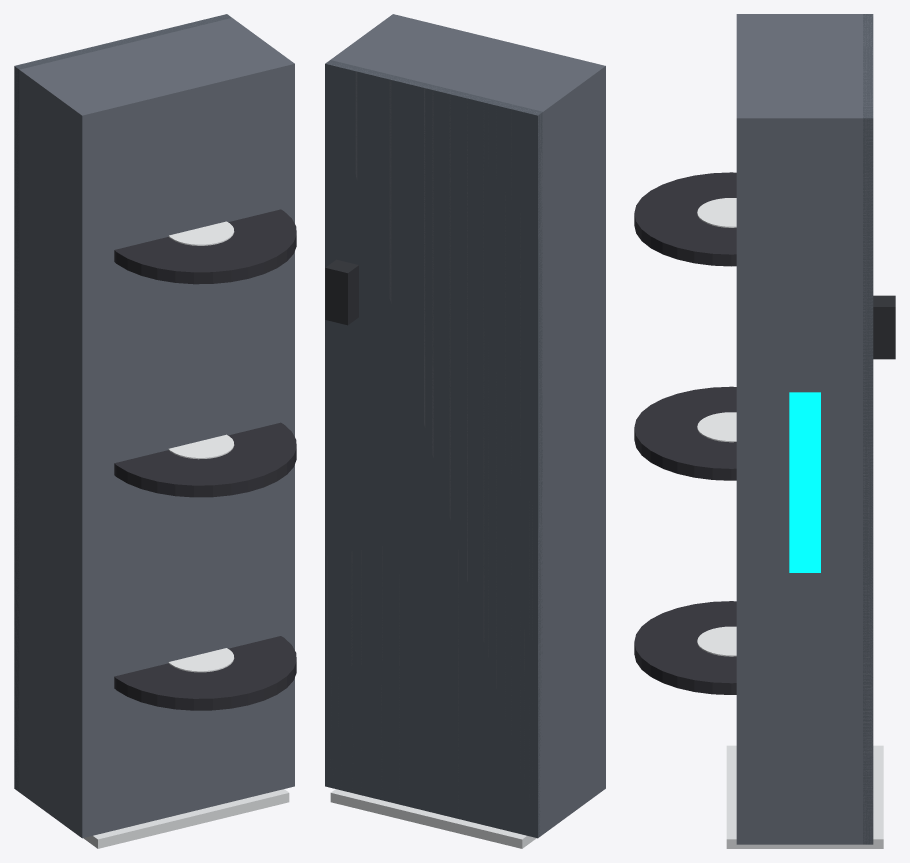
File: gpu_rtx4070ti.glb
The picture shows the model from 3 angles, left to right: view 1: azimuth 30°, elevation 25°; view 2: azimuth 150°, elevation 25°; view 3: azimuth 270°, elevation 25°; orthographic projection.
Visible parts, largest first — view 1: GPU4070Ti_Shroud, GPU4070Ti_Fan_1, GPU4070Ti_Fan_0, GPU4070Ti_Fan_2, GPU4070Ti_Backplate, GPU4070Ti_Bracket, GPU4070Ti_Hub_0, GPU4070Ti_Hub_1, GPU4070Ti_Hub_2; view 2: GPU4070Ti_Backplate, GPU4070Ti_Shroud, GPU4070Ti_Bracket, GPU4070Ti_12VHPWR; view 3: GPU4070Ti_Shroud, GPU4070Ti_Backplate, GPU4070Ti_Fan_0, GPU4070Ti_Fan_2, GPU4070Ti_Fan_1, GPU4070Ti_LogoPlate, GPU4070Ti_Bracket, GPU4070Ti_12VHPWR, GPU4070Ti_Hub_0, GPU4070Ti_Hub_1, GPU4070Ti_Hub_2.
Boxes of the visible parts, x1=… form: GPU4070Ti_Shroud: x1=14, y1=16, x2=294, y2=838; GPU4070Ti_Fan_1: x1=114, y1=422, x2=296, y2=497; GPU4070Ti_Fan_0: x1=114, y1=636, x2=296, y2=710; GPU4070Ti_Fan_2: x1=114, y1=209, x2=296, y2=284; GPU4070Ti_Backplate: x1=14, y1=14, x2=231, y2=791; GPU4070Ti_Bracket: x1=83, y1=789, x2=289, y2=848; GPU4070Ti_Hub_0: x1=168, y1=648, x2=234, y2=672; GPU4070Ti_Hub_1: x1=168, y1=434, x2=234, y2=459; GPU4070Ti_Hub_2: x1=168, y1=221, x2=234, y2=245; GPU4070Ti_Backplate: x1=325, y1=60, x2=542, y2=838; GPU4070Ti_Shroud: x1=325, y1=14, x2=605, y2=836; GPU4070Ti_Bracket: x1=330, y1=789, x2=536, y2=848; GPU4070Ti_12VHPWR: x1=325, y1=259, x2=358, y2=325; GPU4070Ti_Shroud: x1=736, y1=14, x2=873, y2=844; GPU4070Ti_Backplate: x1=863, y1=14, x2=873, y2=844; GPU4070Ti_Fan_0: x1=634, y1=601, x2=736, y2=694; GPU4070Ti_Fan_2: x1=634, y1=172, x2=736, y2=266; GPU4070Ti_Fan_1: x1=634, y1=386, x2=736, y2=480; GPU4070Ti_LogoPlate: x1=789, y1=392, x2=820, y2=572; GPU4070Ti_Bracket: x1=726, y1=745, x2=883, y2=848; GPU4070Ti_12VHPWR: x1=873, y1=295, x2=895, y2=359; GPU4070Ti_Hub_0: x1=697, y1=626, x2=736, y2=656; GPU4070Ti_Hub_1: x1=697, y1=412, x2=736, y2=442; GPU4070Ti_Hub_2: x1=697, y1=198, x2=736, y2=227.
Bounding box in the file's own units: 0.96 × 3.09 × 0.995.
